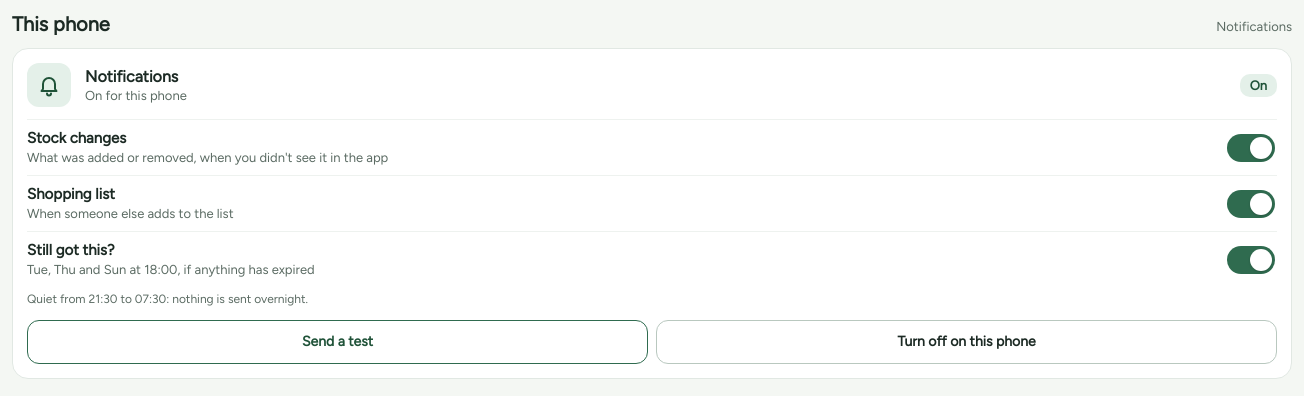
Test case: the This phone card › on: Send a test, and a polite answer when there have been too many
Click the button "Send a test" at (338, 342), box [27,320,648,364]
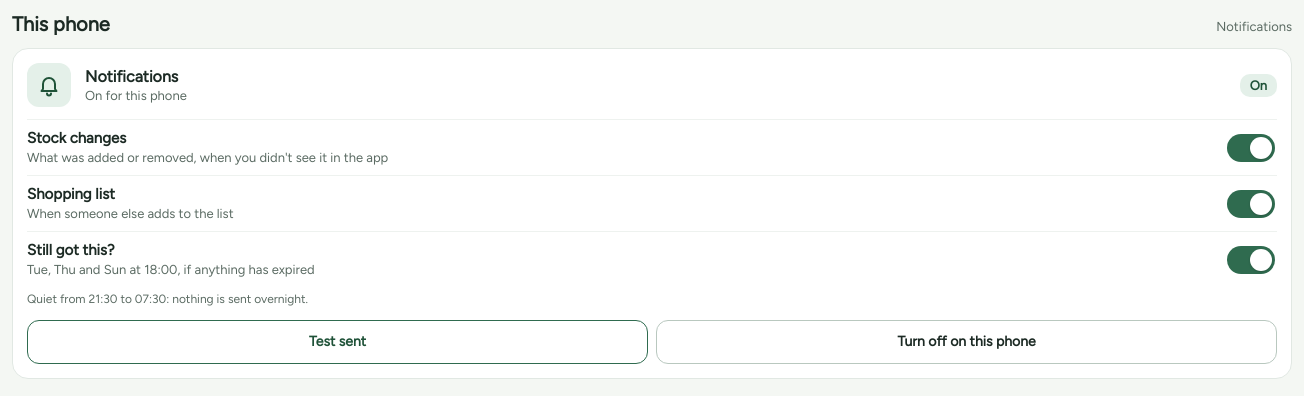
Check: the button "Test sent" is shown
Click the button "Test sent" at (338, 342), box [27,320,648,364]
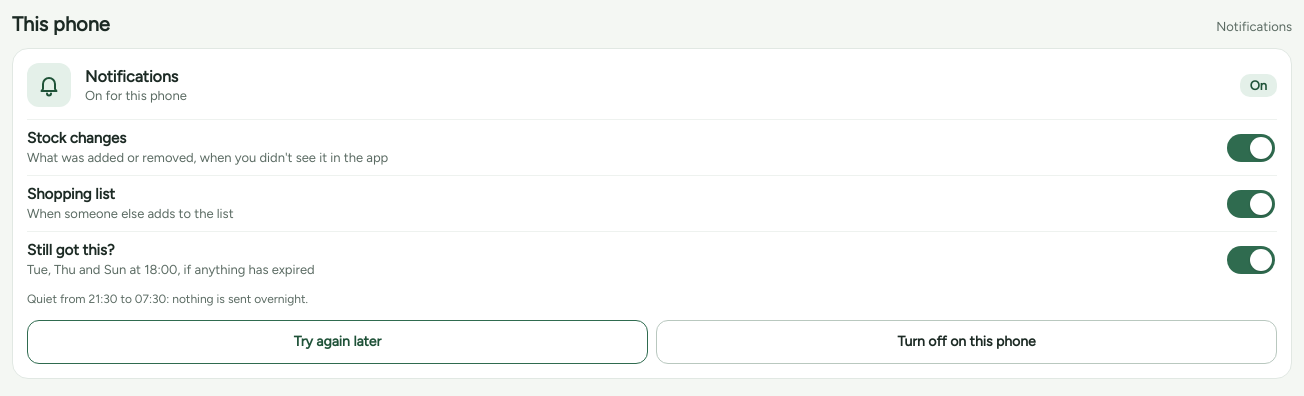
Check: the button "Try again later" is shown, box [27,320,648,364]
